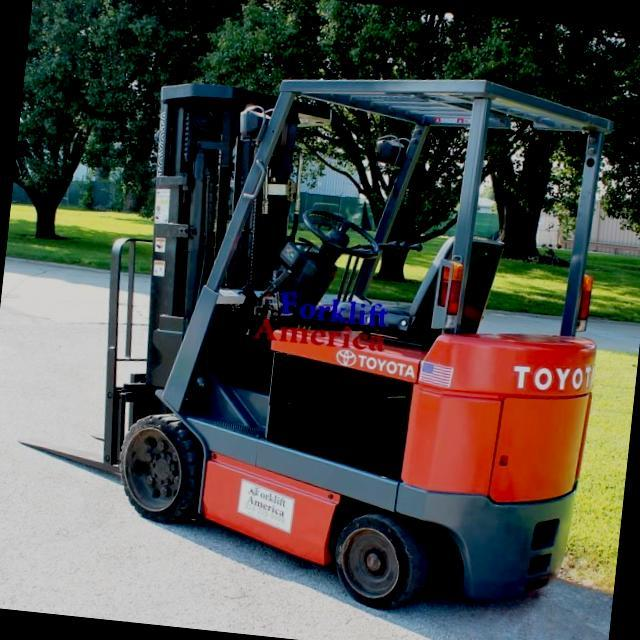forklift: (59, 26, 628, 640)
